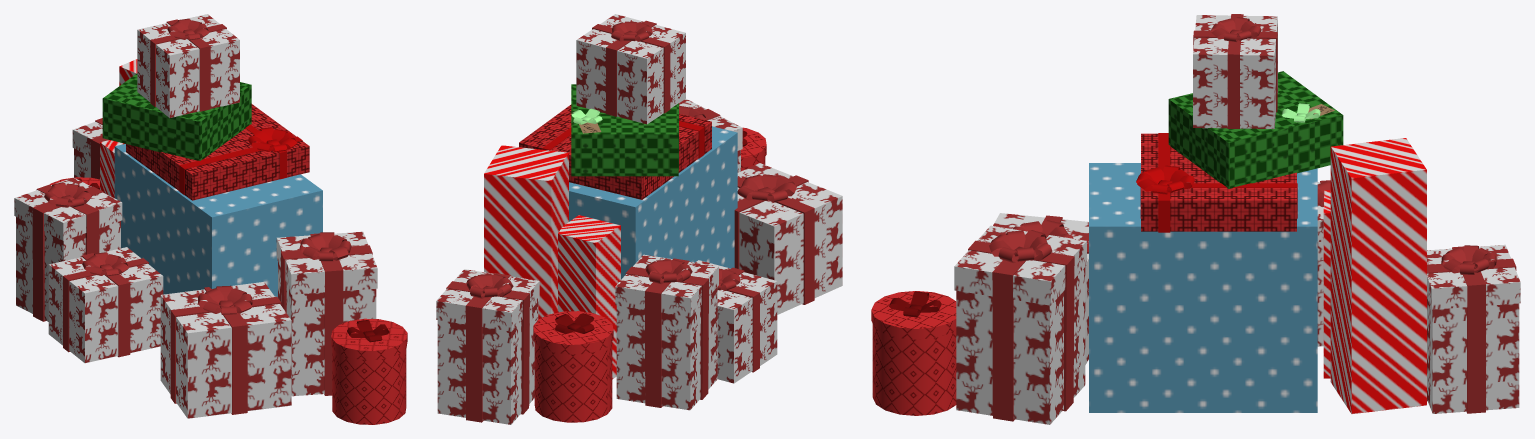
The model's file is stacked_presents_02.fbx.
3 renders of one model, left to right at view 1: azimuth 30°, elevation 25°; view 2: azimuth 150°, elevation 25°; view 3: azimuth 270°, elevation 25°, orthographic. The views are drawn at different scales.
Parts seen in each view (by area): view 1: xmas_presents_stacked_02; view 2: xmas_presents_stacked_02; view 3: xmas_presents_stacked_02.
Boxes of the visible parts, left/top/right/bottom form: xmas_presents_stacked_02: left=14, top=14, right=407, bottom=424; xmas_presents_stacked_02: left=436, top=14, right=842, bottom=424; xmas_presents_stacked_02: left=871, top=14, right=1520, bottom=424.
Size of the model in its own units: 85.18 by 110 by 187.
